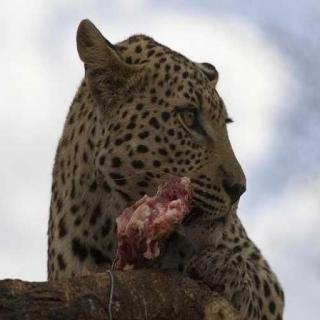Leopard: (39, 10, 292, 306)
